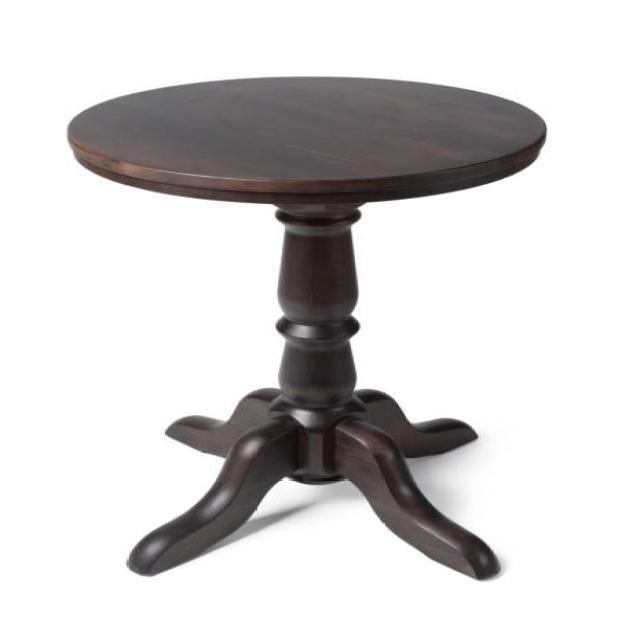table: (65, 74, 548, 580)
